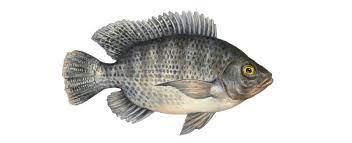Tilapia: (62, 9, 273, 136)
